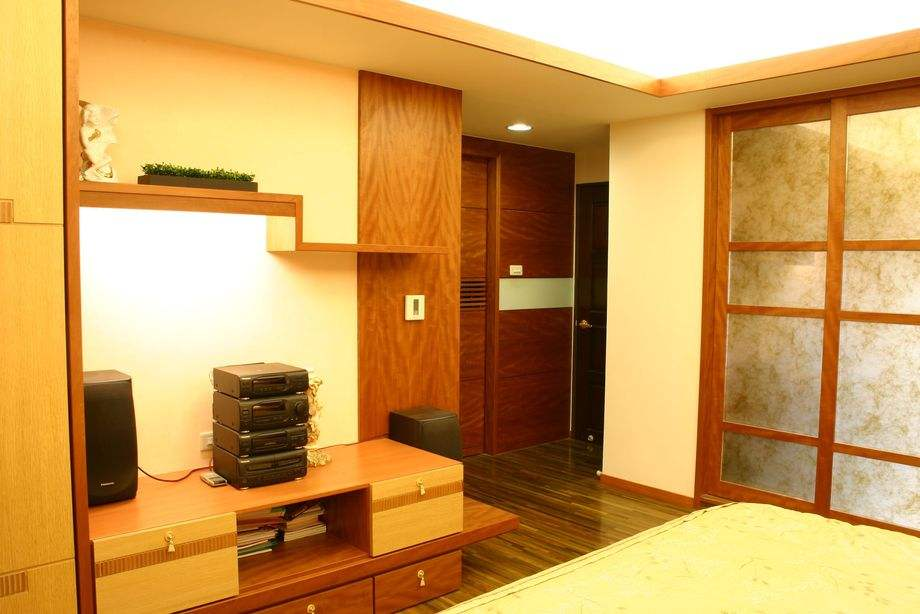床: (470, 506, 919, 614)
灯: (502, 120, 531, 136)
